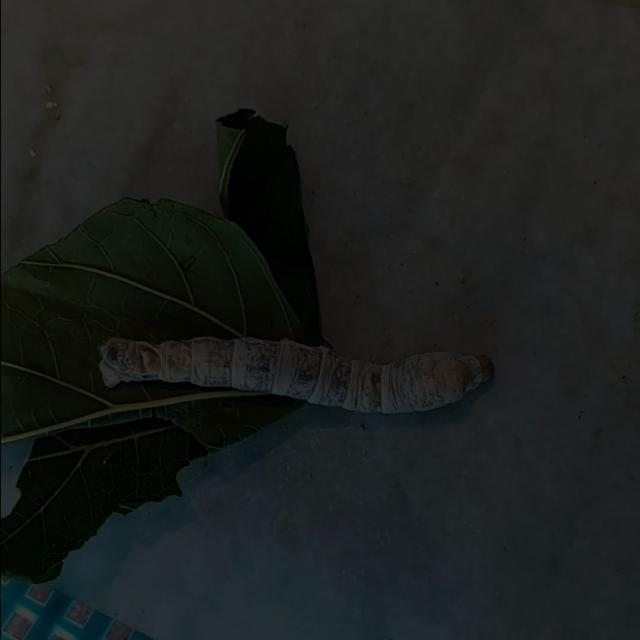Grasserie: (86, 311, 501, 436)
